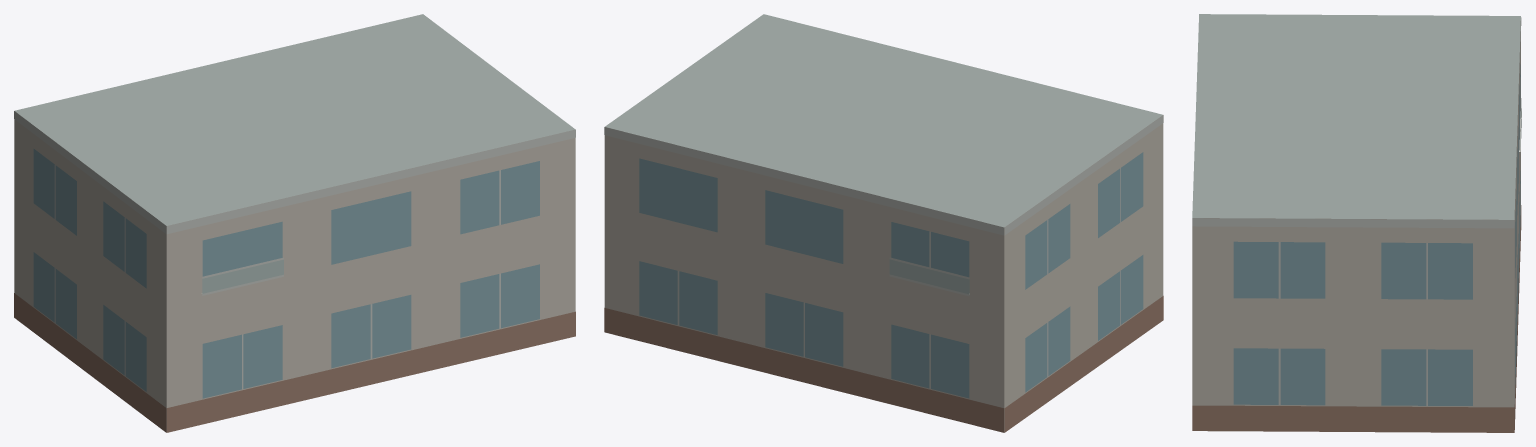
File: survey-upis-32836129.glb
3 views of the same model, side by side, from view 1: azimuth 30°, elevation 25°; view 2: azimuth 150°, elevation 25°; view 3: azimuth 270°, elevation 25° (orthographic). The views are drawn at different scales.
Visible parts, largest first — view 1: survey-upis-32836129.tmp; view 2: survey-upis-32836129.tmp; view 3: survey-upis-32836129.tmp.
Boxes of the visible parts, x1,y1,x2,y2 form: survey-upis-32836129.tmp: [14, 14, 575, 432]; survey-upis-32836129.tmp: [604, 14, 1163, 432]; survey-upis-32836129.tmp: [1192, 14, 1521, 432].
Bounding box in the file's own units: 12.65 × 6.1 × 8.56.
